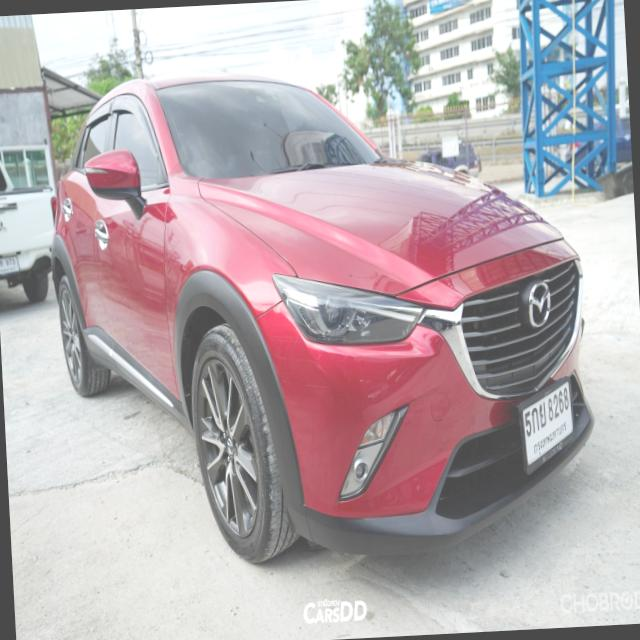license_plate: (509, 379, 584, 478)
